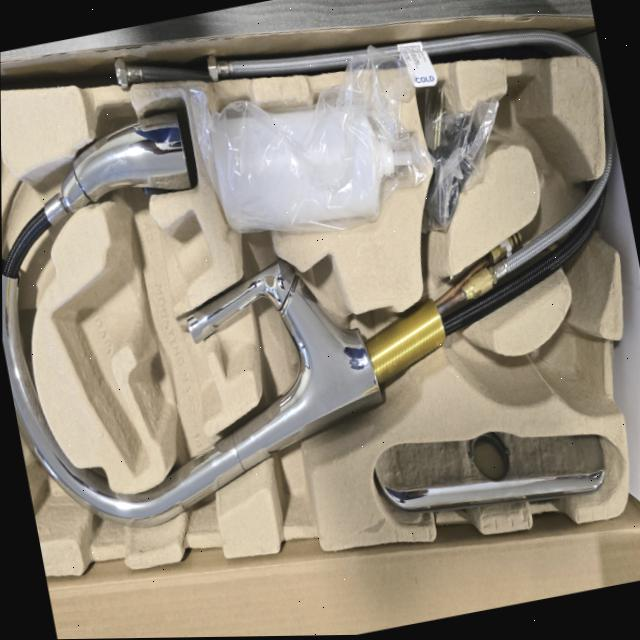1: (2, 109, 606, 529)
2m: (52, 210, 210, 471)
3: (208, 99, 416, 229)
4: (371, 431, 606, 510)
5m: (535, 323, 598, 406)
6m: (500, 73, 566, 190)
7: (422, 85, 498, 235)
